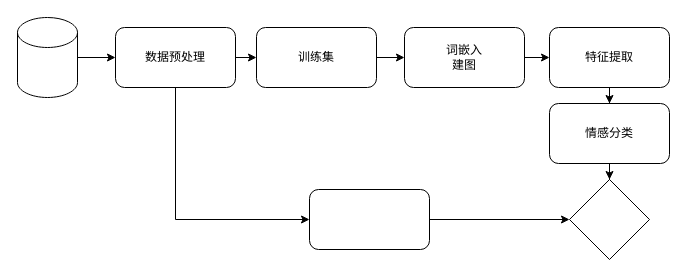
The diagram is 687 pixels wide and 277 high, and some of its shapes have lost their labels. The shapes that lost their labels are listed below. From the top down, each one's box as (x1, y1, x2, y2) in pixels, then its label:
(16, 16, 78, 98): 原始数据
(308, 188, 430, 250): 测试集
(568, 178, 650, 260): 性能评估
